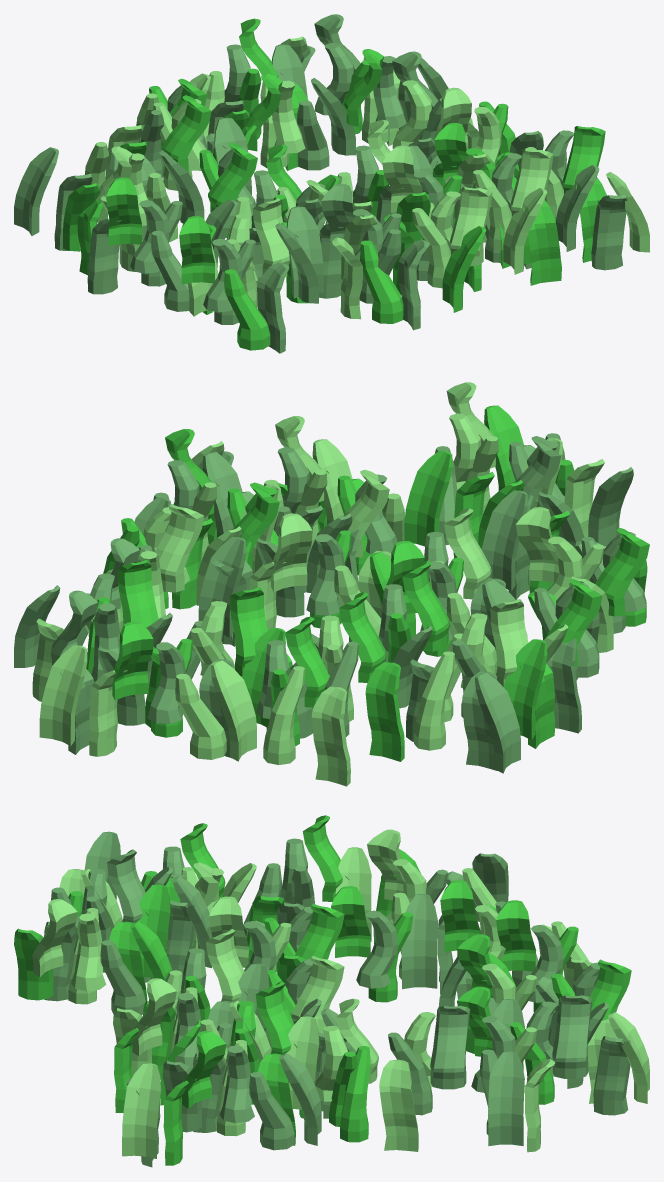
The model's file is Gras 1.3.fbx.
The picture shows the model from 3 angles, top to bottom: view 1: azimuth 30°, elevation 25°; view 2: azimuth 150°, elevation 25°; view 3: azimuth 270°, elevation 25°; orthographic projection. The views are drawn at different scales.
Parts seen in each view (by area): view 1: Cylinder.144; view 2: Cylinder.144; view 3: Cylinder.144.
Boxes of the visible parts, x1,y1,x2,y2 form: Cylinder.144: [14, 14, 649, 353]; Cylinder.144: [14, 382, 649, 786]; Cylinder.144: [14, 815, 649, 1167].
Size of the model in its own units: 3155 by 1022 by 3582.
